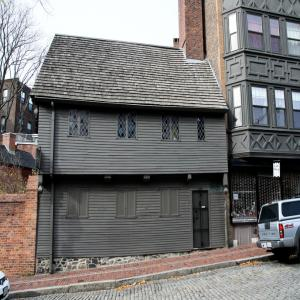Vehicle-registration-plate: (4, 287, 9, 298), (269, 242, 274, 250)
